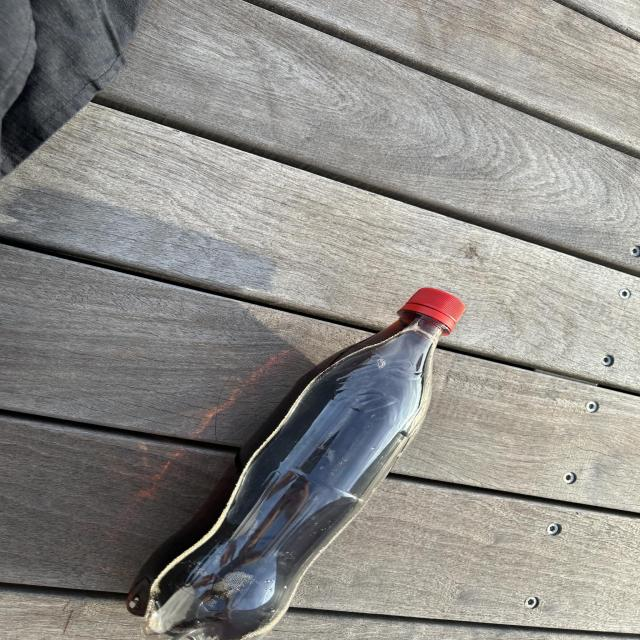medium: (128, 288, 465, 640)
